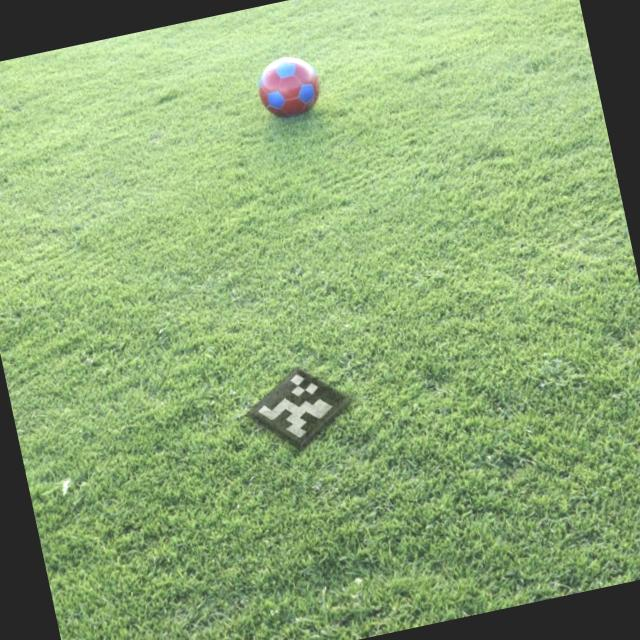marker: (234, 346, 368, 468)
